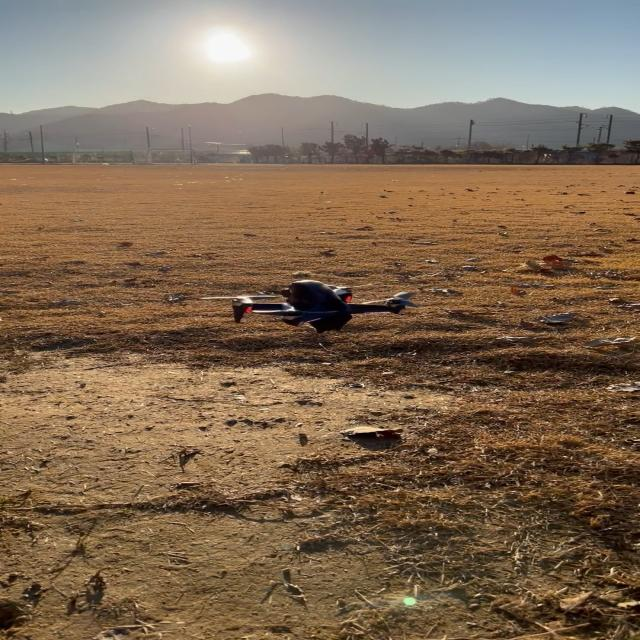Drone: (235, 275, 406, 333)
